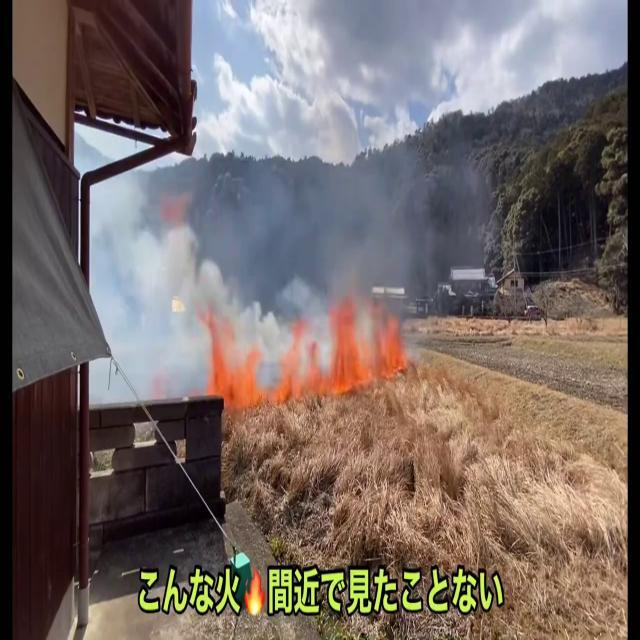Fire: (302, 283, 406, 397), (202, 309, 288, 413)
Smoke: (96, 169, 427, 405)
